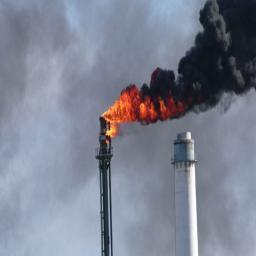fire: (101, 85, 187, 136)
smoke: (1, 0, 205, 255), (111, 87, 256, 255), (139, 1, 256, 121)
